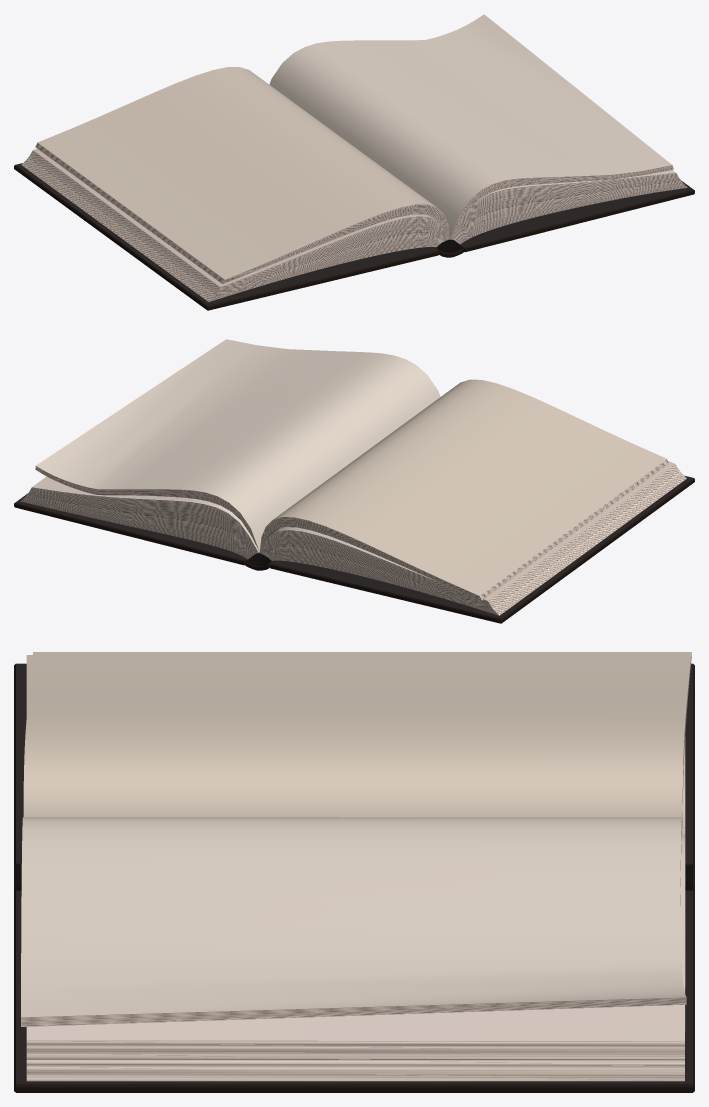
3 renders of one model, top to bottom at view 1: azimuth 30°, elevation 25°; view 2: azimuth 150°, elevation 25°; view 3: azimuth 270°, elevation 25°, orthographic. The views are drawn at different scales.
Visible parts, largest first — view 1: Book_Texture-base_0; view 2: Book_Texture-base_0; view 3: Book_Texture-base_0.
Boxes of the visible parts, box(x1,y1,x2,y2) form: Book_Texture-base_0: box(14, 14, 694, 310); Book_Texture-base_0: box(14, 339, 694, 623); Book_Texture-base_0: box(14, 652, 694, 1092).
Bounding box in the file's own units: 103 × 12.58 × 70.88.
1 material, 1 textured.
